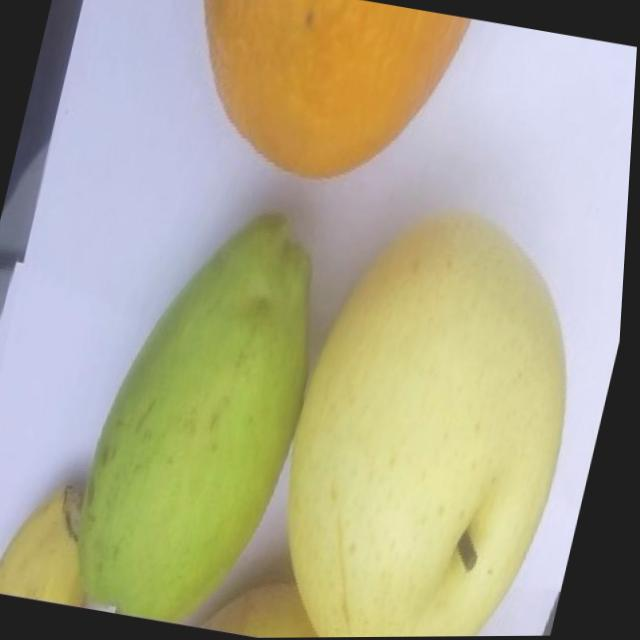Apple: (199, 567, 355, 639)
Banana: (0, 471, 119, 609)
Orange: (158, 0, 472, 207)
